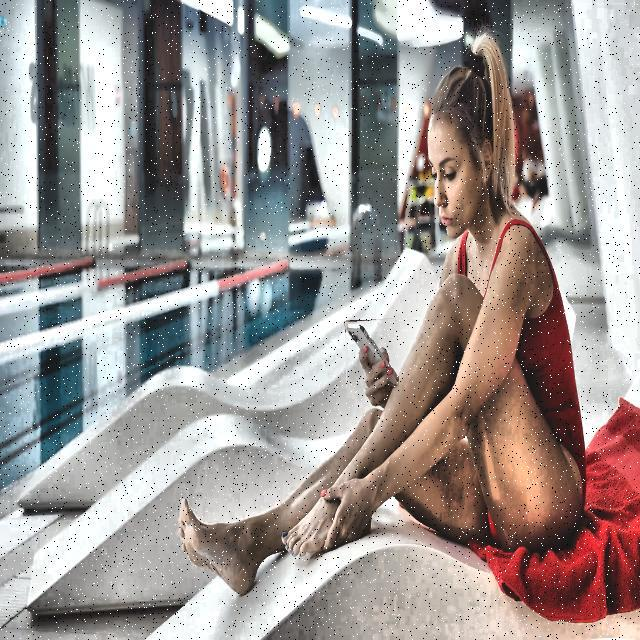Phone: (345, 319, 398, 389)
